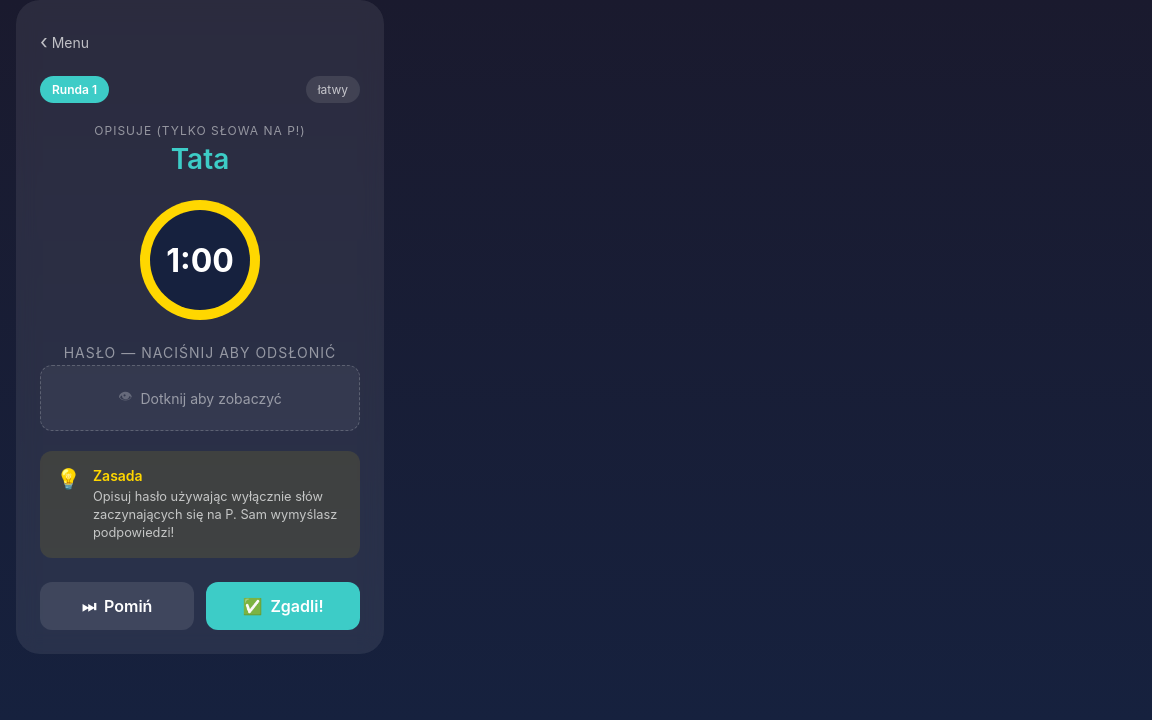
Test: GamePlay › should reveal word when touched
Click the text "Dotknij aby zobaczyć" at x=211, y=398, box [140,390,282,406]
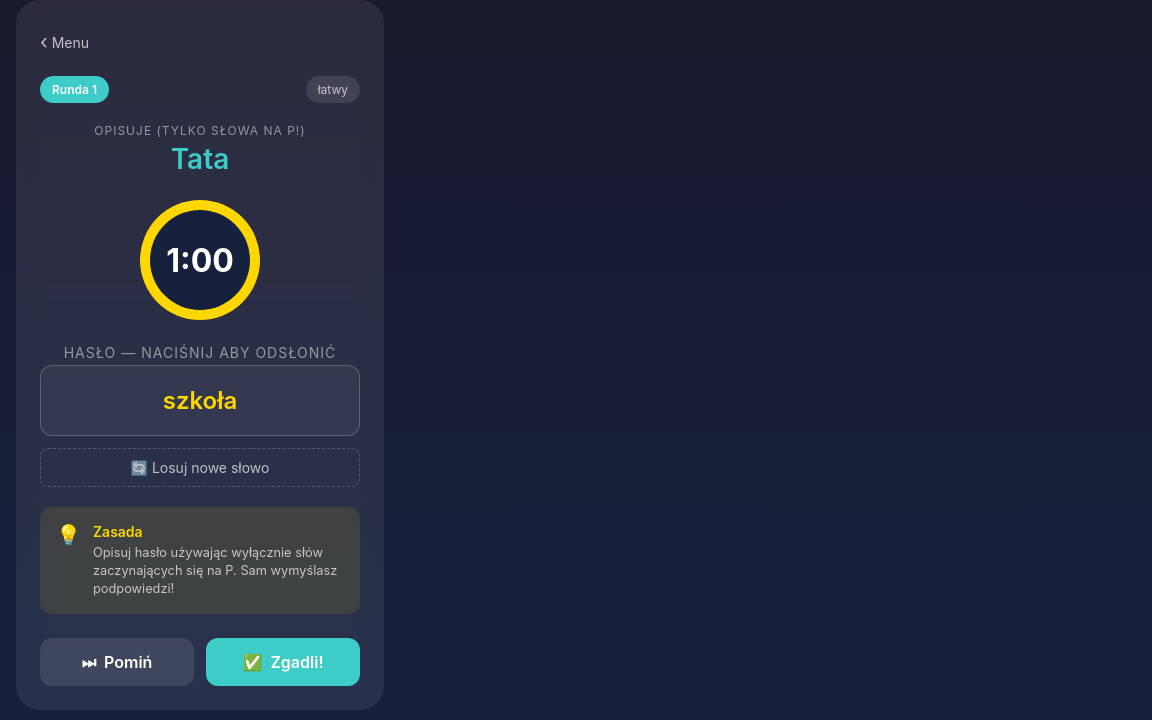
Expected: the button "Dotknij aby zobaczyć" is gone
